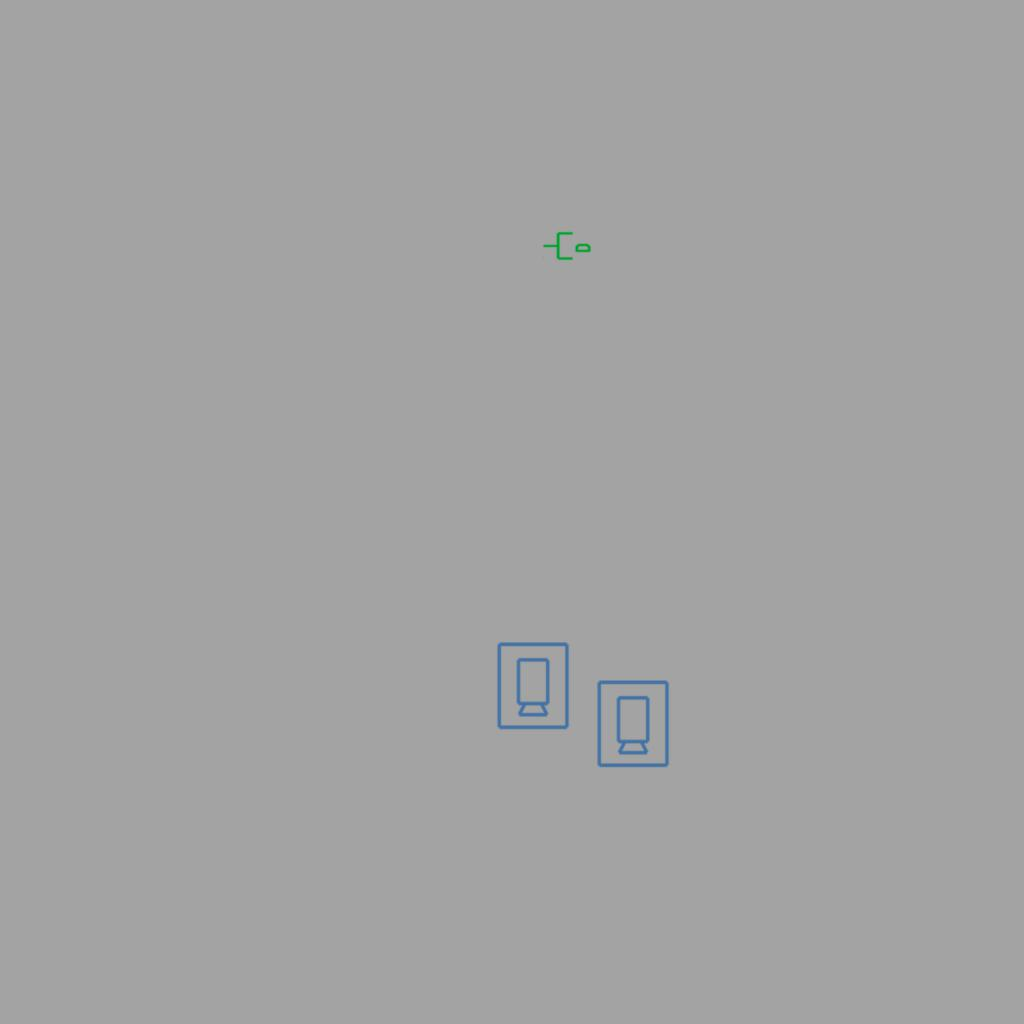Datenanschluss_einfach: (542, 228, 592, 262)
KFO_Kamera_mit_Festobjektiv: (494, 640, 571, 731), (594, 678, 671, 769)
